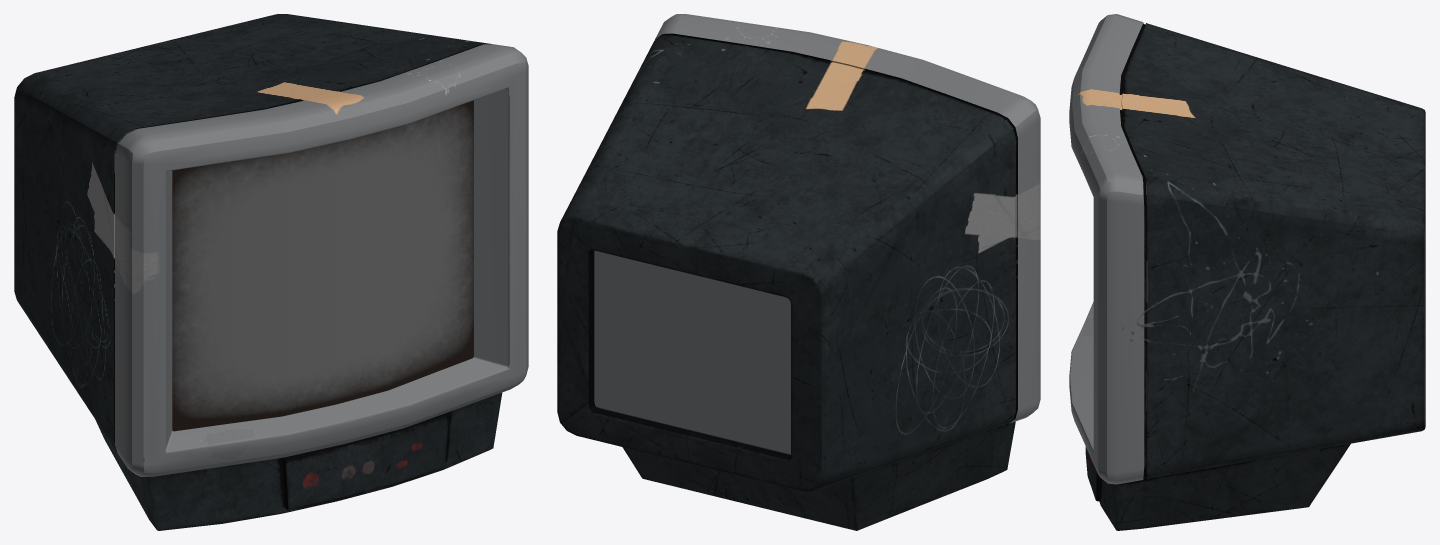
The model's file is practice_tv.glb.
3 renders of one model, left to right at view 1: azimuth 30°, elevation 25°; view 2: azimuth 150°, elevation 25°; view 3: azimuth 270°, elevation 25°, orthographic. The views are drawn at different scales.
Parts seen in each view (by area): view 1: Main; view 2: Main; view 3: Main.
Part boxes in pixels (x1,y1,x2,y2): Main: (14,14,528,530); Main: (557,14,1040,530); Main: (1069,14,1425,530).
Bounding box in the file's own units: 0.0126 × 0.0121 × 0.0108.
2 materials, 2 textured.
